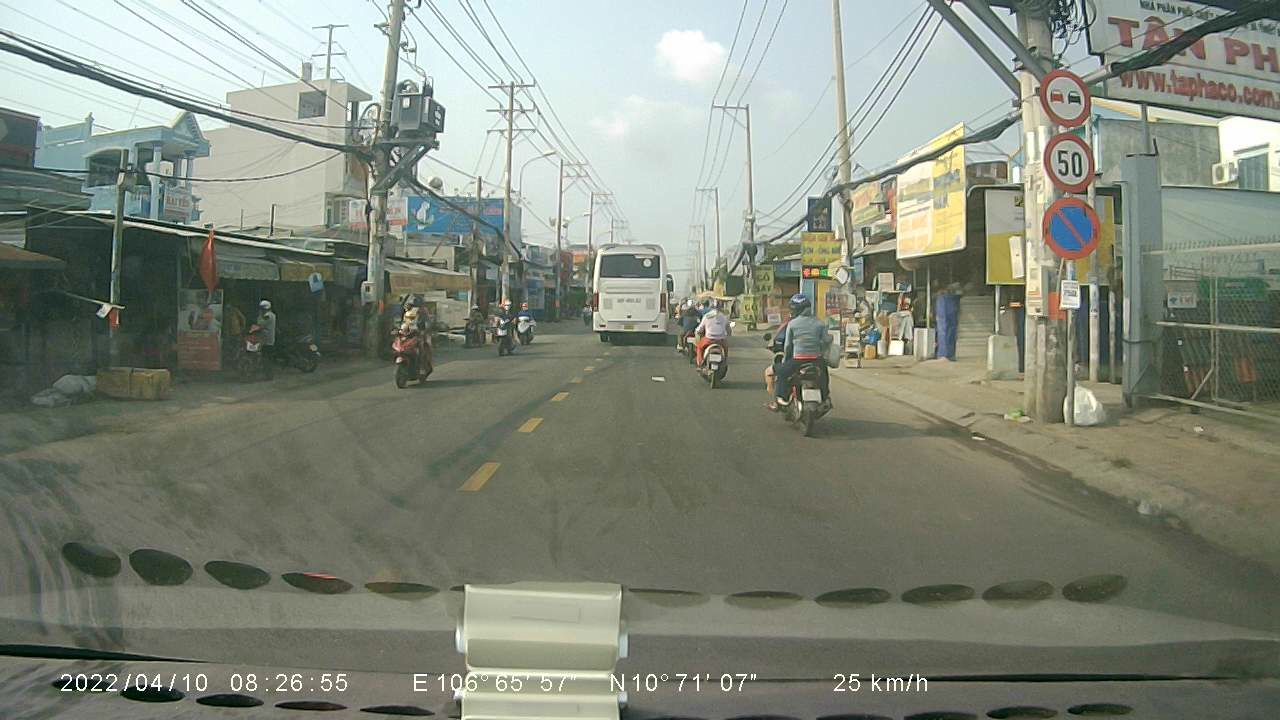Bien khac: (1036, 62, 1094, 126), (1044, 130, 1098, 191)
Cam do xe: (1037, 197, 1100, 261)
